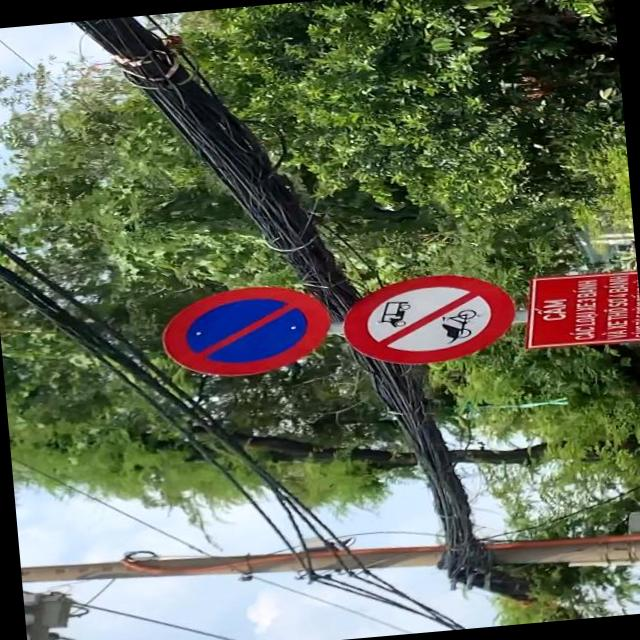P-131a: (154, 277, 334, 380)
